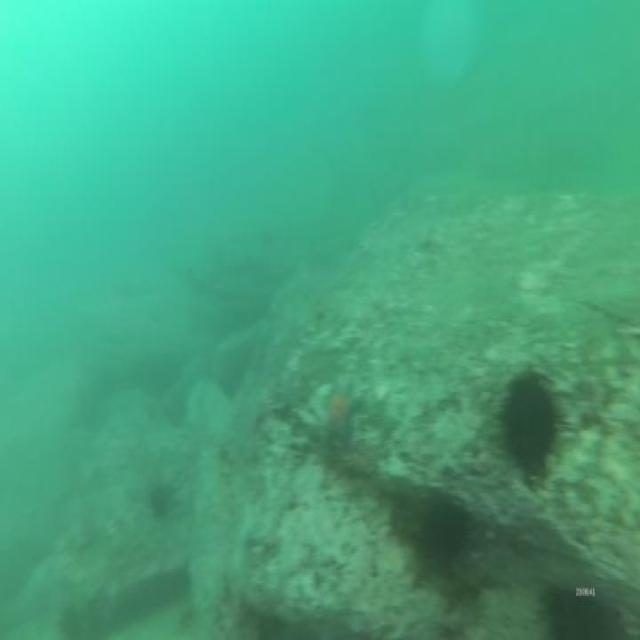echinus: (492, 362, 564, 480), (409, 476, 480, 576), (541, 577, 631, 640)
starfish: (323, 373, 365, 442)
